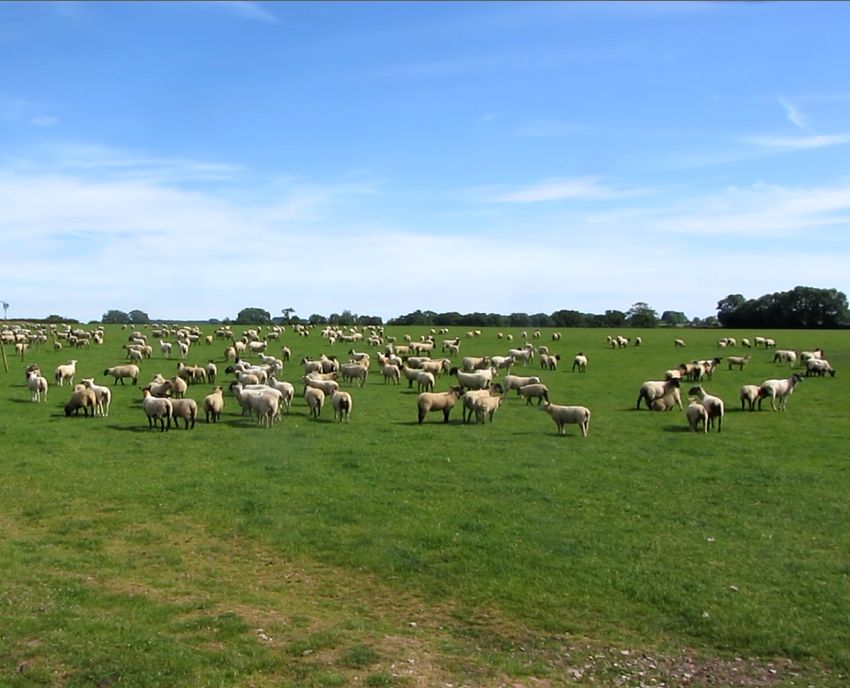sheep: (415, 384, 466, 424), (539, 398, 592, 435), (689, 383, 727, 430), (138, 384, 175, 432), (762, 370, 804, 412), (634, 377, 676, 410), (328, 384, 354, 425), (449, 365, 491, 390), (203, 383, 225, 427), (302, 380, 325, 422), (24, 368, 49, 403), (516, 382, 550, 407), (685, 397, 708, 432), (104, 362, 140, 384), (53, 358, 79, 386), (339, 363, 368, 388), (378, 358, 399, 386), (413, 370, 436, 394), (772, 347, 799, 367), (398, 362, 420, 386), (491, 355, 518, 371), (571, 352, 589, 373), (348, 347, 370, 363), (157, 338, 173, 360), (249, 336, 268, 353), (278, 343, 292, 362), (548, 353, 560, 370)
